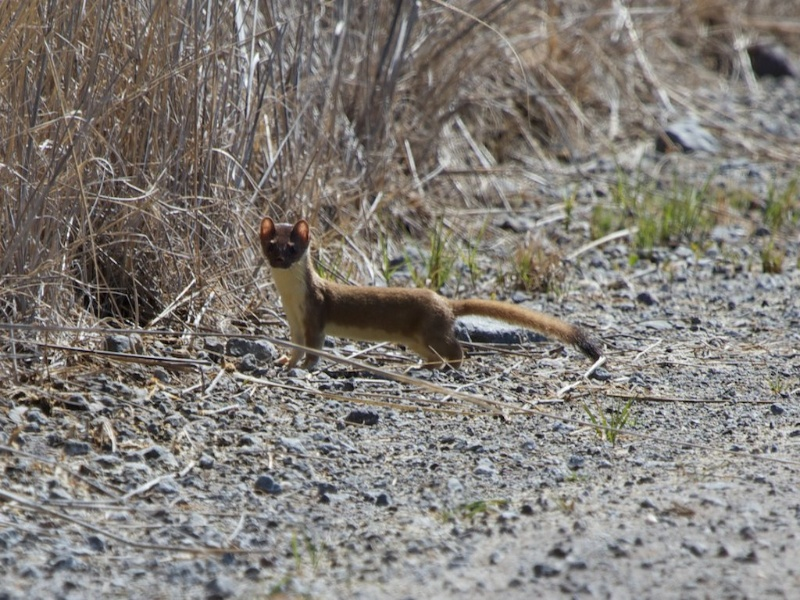minkish: (258, 218, 604, 383)
